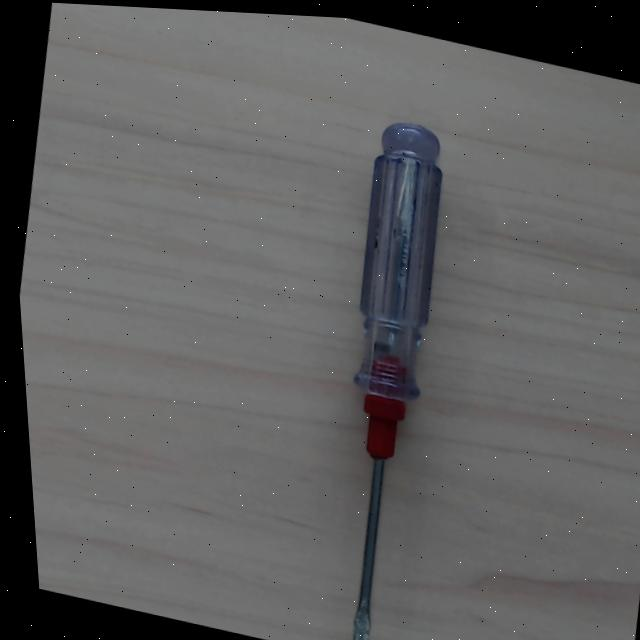Obeng-Kecil: (325, 121, 447, 640)
